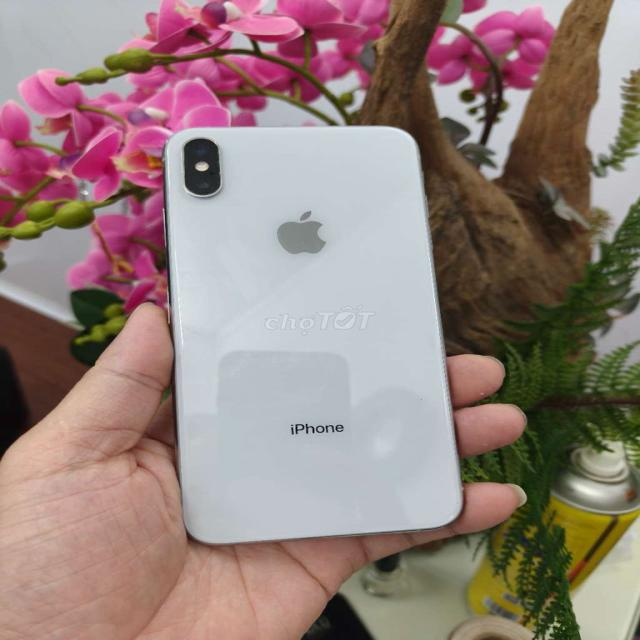gen_x_xs: (157, 117, 468, 556)
